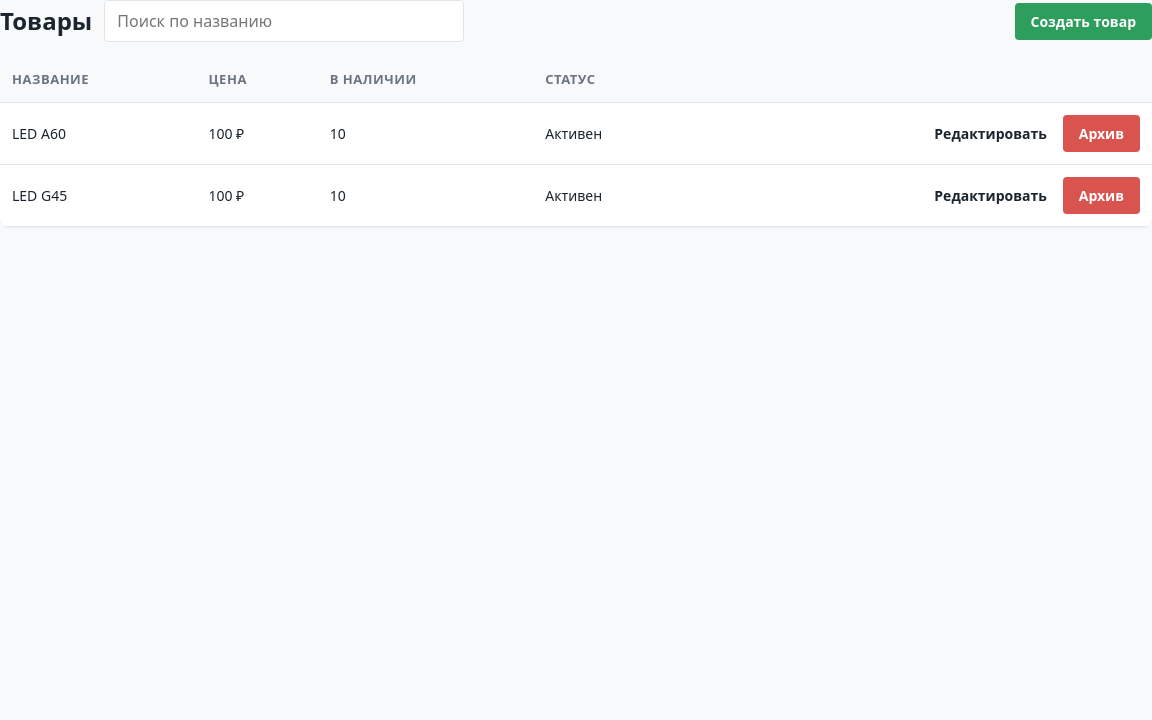
AdminProductsPage › clicking "Создать товар" opens the form modal (a dialog appears)
Expected: the text "LED A60" is shown, left=0, top=102, right=196, bottom=164
Click the button "Создать товар" at (1083, 21), box left=1014, top=2, right=1151, bottom=40
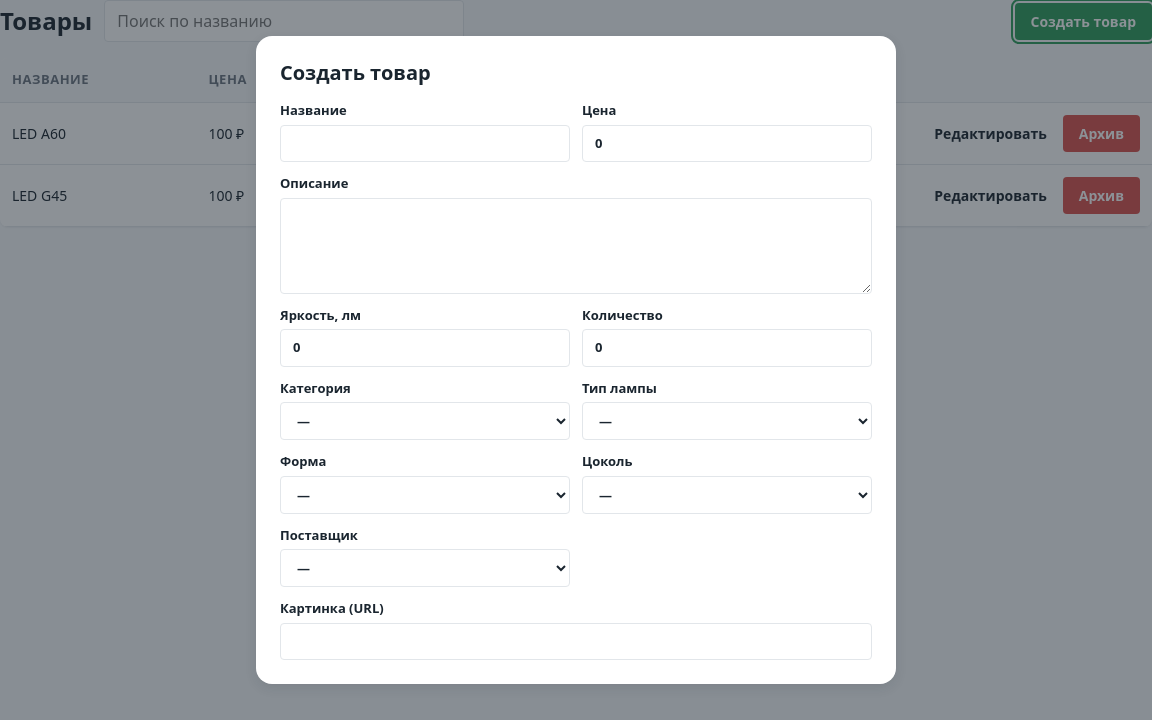
Now the dialog is shown, box left=256, top=36, right=896, bottom=684
